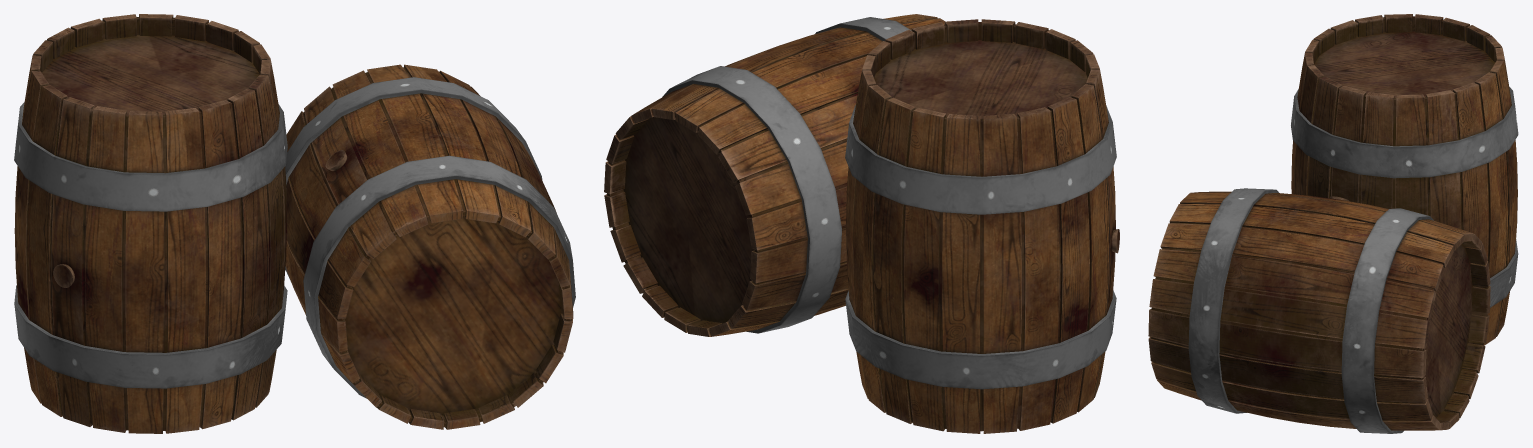
The model's file is barrels.glb.
3 views of the same model, side by side, from view 1: azimuth 30°, elevation 25°; view 2: azimuth 150°, elevation 25°; view 3: azimuth 270°, elevation 25° (orthographic). The views are drawn at different scales.
Parts seen in each view (by area): view 1: Object_2; view 2: Object_2; view 3: Object_2.
Boxes of the visible parts, left/top/right/bottom form: Object_2: left=14, top=14, right=575, bottom=433; Object_2: left=604, top=14, right=1119, bottom=433; Object_2: left=1148, top=14, right=1518, bottom=433.
Bounding box in the file's own units: 14.96 × 9.44 × 11.79.
1 material, 1 textured.
